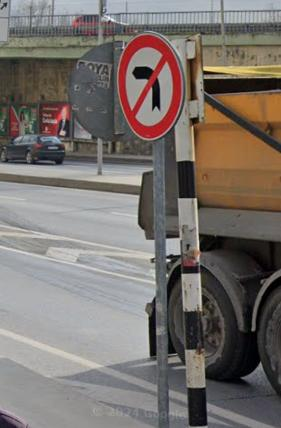leftturnsareforbidden: (119, 34, 185, 136)
